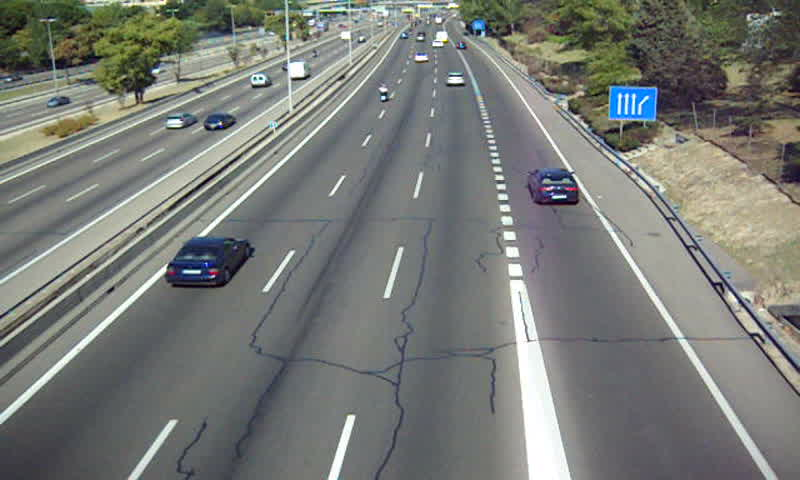car: (166, 237, 251, 287), (527, 167, 577, 203), (444, 71, 466, 86)
motorcycle: (376, 82, 390, 104)
